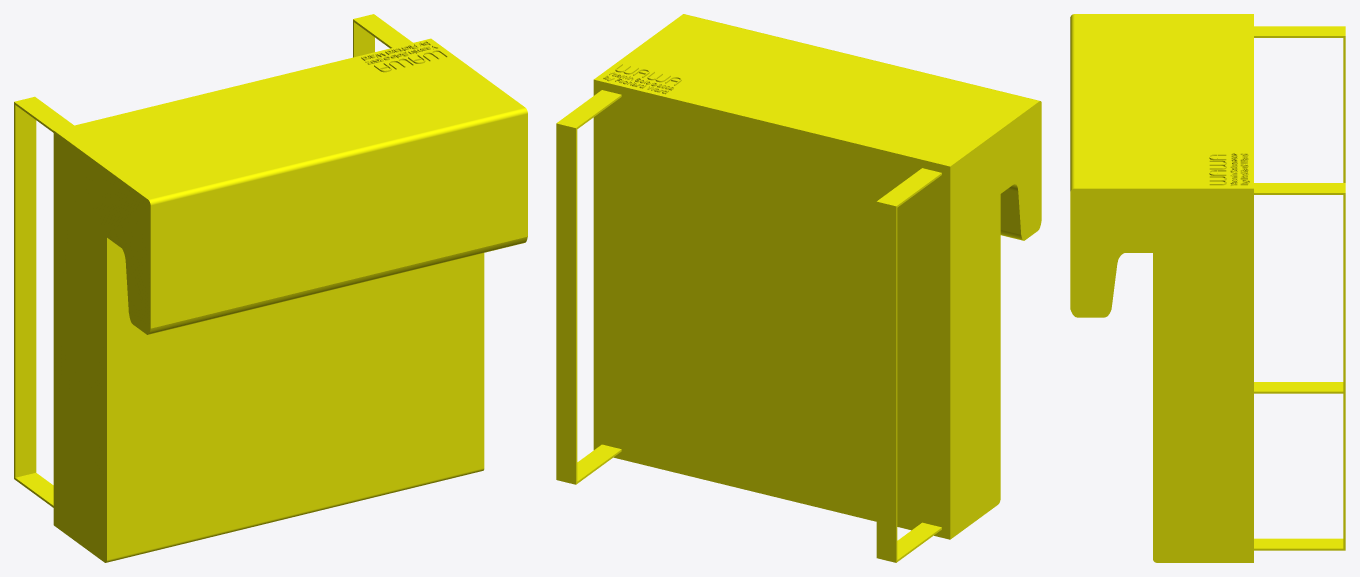
Rendered from Yasmin Solo.obj.
The picture shows the model from 3 angles, left to right: view 1: azimuth 30°, elevation 25°; view 2: azimuth 150°, elevation 25°; view 3: azimuth 270°, elevation 25°; orthographic projection. The views are drawn at different scales.
Visible parts, largest first — view 1: Shape10, Shape12, Shape18, Shape26, Shape13, Shape28, Shape4, Shape23; view 2: Shape11, Shape12, Shape18, Shape22, Shape3, Shape9, Shape28, Shape23, Shape4, Shape14, Shape19, Shape0; view 3: Shape17, Shape12, Shape8, Shape0, Shape4, Shape23, Shape19, Shape27.
Boxes of the visible parts, x1=… form: Shape10: x1=106, y1=238, x2=484, y2=562; Shape12: x1=54, y1=38, x2=527, y2=328; Shape18: x1=53, y1=131, x2=150, y2=562; Shape26: x1=15, y1=105, x2=36, y2=477; Shape13: x1=148, y1=236, x2=527, y2=334; Shape28: x1=14, y1=102, x2=53, y2=507; Shape4: x1=353, y1=14, x2=412, y2=47; Shape23: x1=14, y1=96, x2=73, y2=130; Shape11: x1=593, y1=79, x2=950, y2=539; Shape12: x1=594, y1=14, x2=1039, y2=166; Shape18: x1=950, y1=101, x2=1041, y2=539; Shape22: x1=876, y1=201, x2=896, y2=562; Shape3: x1=556, y1=123, x2=575, y2=484; Shape9: x1=576, y1=95, x2=621, y2=484; Shape28: x1=896, y1=173, x2=941, y2=562; Shape23: x1=877, y1=168, x2=941, y2=206; Shape4: x1=556, y1=90, x2=621, y2=127; Shape14: x1=1000, y1=189, x2=1020, y2=234; Shape19: x1=897, y1=522, x2=941, y2=559; Shape0: x1=577, y1=444, x2=621, y2=481; Shape17: x1=1070, y1=188, x2=1253, y2=562; Shape12: x1=1070, y1=14, x2=1253, y2=191; Shape8: x1=1254, y1=193, x2=1345, y2=550; Shape0: x1=1254, y1=538, x2=1343, y2=548; Shape4: x1=1254, y1=183, x2=1345, y2=192; Shape23: x1=1254, y1=26, x2=1345, y2=35; Shape19: x1=1254, y1=382, x2=1343, y2=391; Shape27: x1=1254, y1=36, x2=1345, y2=393.
Bounding box in the file's own units: 0.9 × 0.9033 × 0.6.
